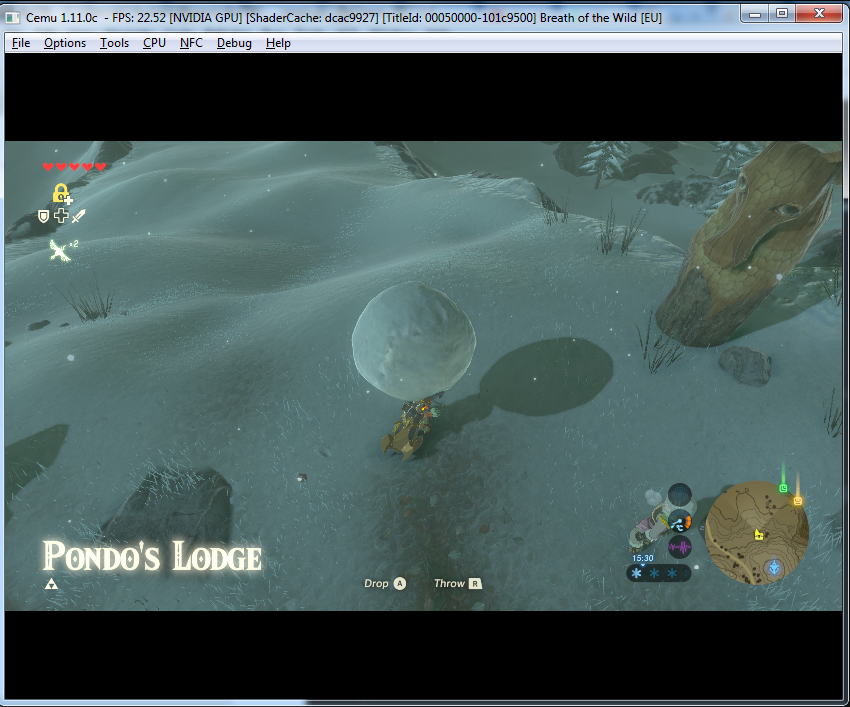link: (378, 389, 453, 477)
snowball: (342, 276, 486, 403)
totem: (659, 129, 839, 366)
